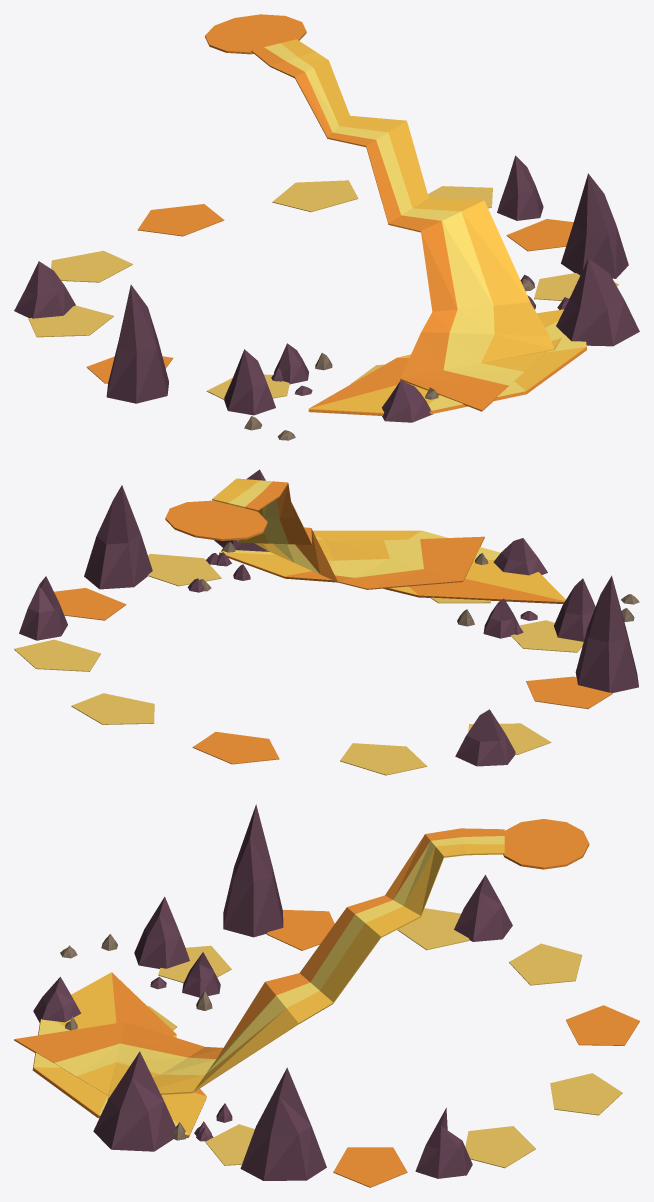
Rendered from decoration.glb.
3 renders of one model, top to bottom at view 1: azimuth 30°, elevation 25°; view 2: azimuth 150°, elevation 25°; view 3: azimuth 270°, elevation 25°, orthographic. The views are drawn at different scales.
Visible parts, largest first — view 1: 24_R3C_Dragon_SteppedLavaChannelAndWidePool, 24_R3C_Dragon_FoldedBasaltRubble, 24_R3C_Dragon_LayeredPaperApron; view 2: 24_R3C_Dragon_SteppedLavaChannelAndWidePool, 24_R3C_Dragon_FoldedBasaltRubble, 24_R3C_Dragon_LayeredPaperApron; view 3: 24_R3C_Dragon_SteppedLavaChannelAndWidePool, 24_R3C_Dragon_FoldedBasaltRubble, 24_R3C_Dragon_LayeredPaperApron.
Part boxes in pixels (x1,y1,x2,y2): 24_R3C_Dragon_SteppedLavaChannelAndWidePool: (205, 14, 586, 415); 24_R3C_Dragon_FoldedBasaltRubble: (14, 155, 639, 440); 24_R3C_Dragon_LayeredPaperApron: (28, 180, 618, 399); 24_R3C_Dragon_SteppedLavaChannelAndWidePool: (165, 478, 565, 603); 24_R3C_Dragon_FoldedBasaltRubble: (19, 469, 639, 766); 24_R3C_Dragon_LayeredPaperApron: (14, 553, 612, 775); 24_R3C_Dragon_SteppedLavaChannelAndWidePool: (14, 819, 589, 1137); 24_R3C_Dragon_FoldedBasaltRubble: (33, 804, 512, 1180); 24_R3C_Dragon_LayeredPaperApron: (148, 908, 639, 1187).
Bounding box in the file's own units: 1.55 × 0.5411 × 1.44.
